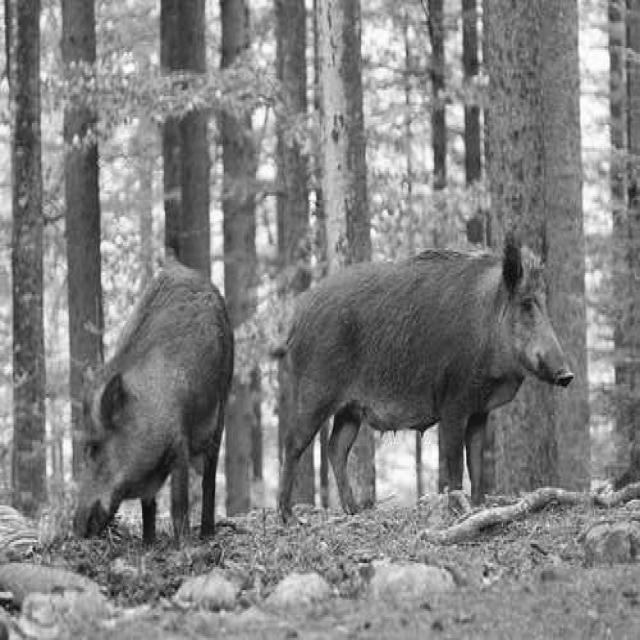boar: (278, 240, 571, 517), (73, 263, 230, 538)
